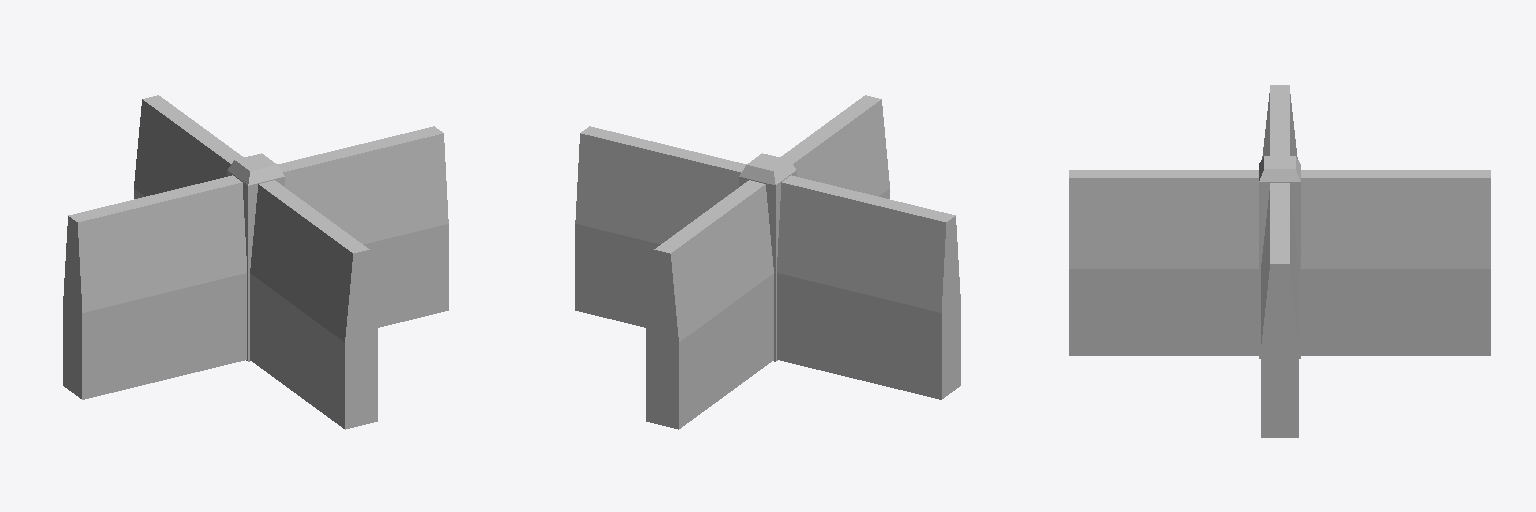
The model's file is Ограда 4.obj.
3 renders of one model, left to right at view 1: azimuth 30°, elevation 25°; view 2: azimuth 150°, elevation 25°; view 3: azimuth 270°, elevation 25°, orthographic.
Parts seen in each view (by area): view 1: Cube.002, Cube, Cube.004, Cube.003, Cube.001; view 2: Cube.002, Cube.003, Cube.004, Cube, Cube.001; view 3: Cube, Cube.003, Cube.004, Cube.001, Cube.002.
Part boxes in pixels (left/top/right/bottom): Cube.002: left=63, top=175, right=246, bottom=399; Cube: left=250, top=180, right=377, bottom=429; Cube.004: left=277, top=126, right=448, bottom=327; Cube.003: left=134, top=95, right=243, bottom=198; Cube.001: left=227, top=153, right=284, bottom=361; Cube.002: left=777, top=175, right=960, bottom=399; Cube.003: left=646, top=180, right=773, bottom=429; Cube.004: left=575, top=126, right=746, bottom=327; Cube: left=780, top=95, right=889, bottom=198; Cube.001: left=739, top=153, right=796, bottom=361; Cube: left=1069, top=170, right=1258, bottom=355; Cube.003: left=1301, top=170, right=1490, bottom=355; Cube.004: left=1261, top=183, right=1298, bottom=437; Cube.001: left=1259, top=156, right=1300, bottom=358; Cube.002: left=1262, top=85, right=1297, bottom=158.
Size of the model in its own units: 4.41 by 2.15 by 4.4.